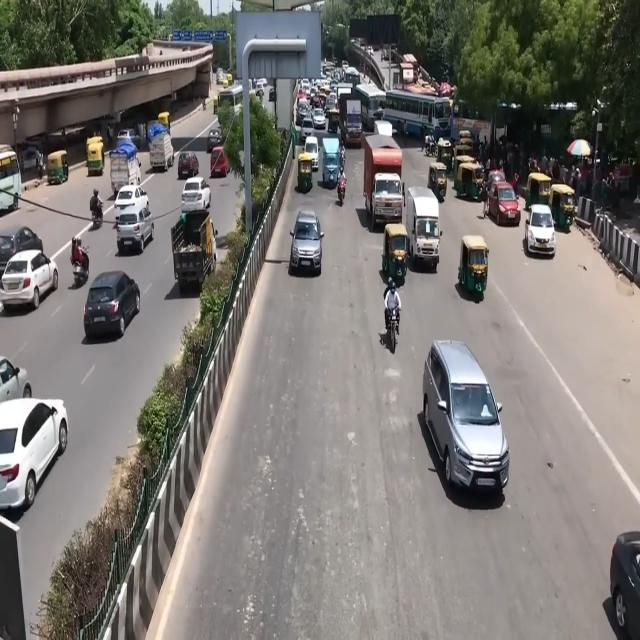auto: (460, 226, 494, 312), (382, 212, 412, 297), (552, 176, 577, 242), (526, 170, 550, 214), (458, 160, 486, 197), (428, 155, 448, 202), (436, 134, 455, 171), (46, 153, 68, 184), (455, 149, 472, 183), (85, 134, 102, 168), (88, 145, 105, 177), (158, 108, 171, 137), (213, 92, 222, 120), (222, 76, 228, 91)
bike-auto: (384, 277, 402, 369), (70, 233, 90, 291), (336, 163, 354, 210), (89, 189, 103, 234), (478, 175, 492, 218), (425, 125, 439, 164), (340, 138, 347, 174)
